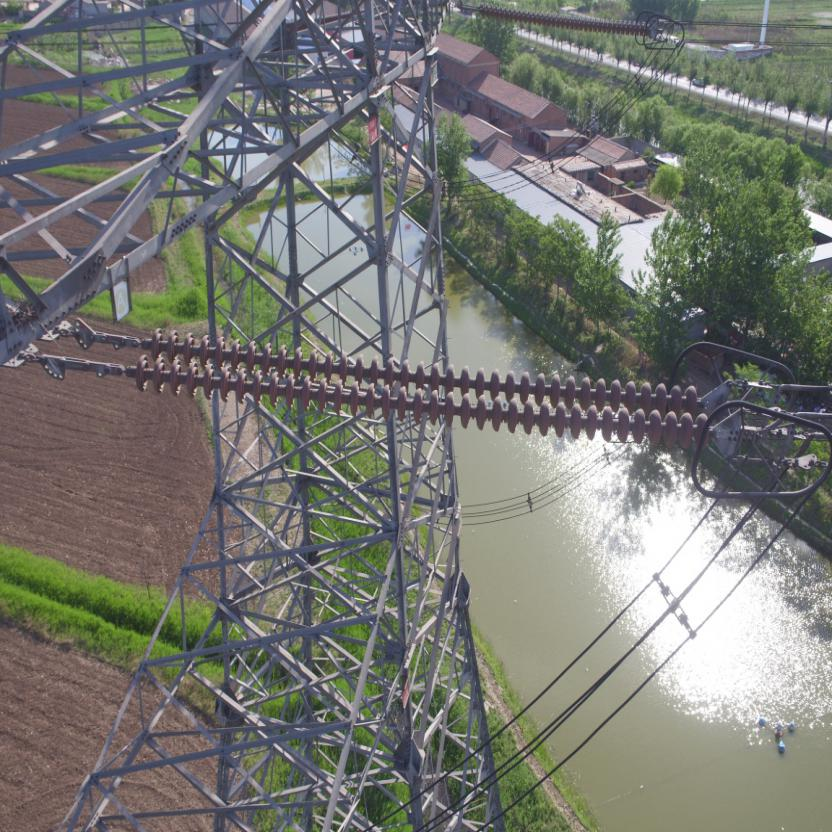insulator: (107, 324, 721, 450), (464, 0, 653, 38)
